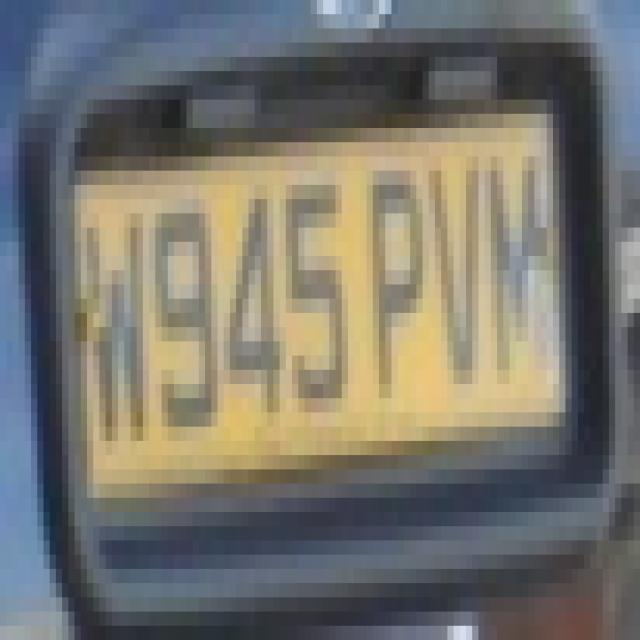licenseplate: (44, 26, 620, 614)
